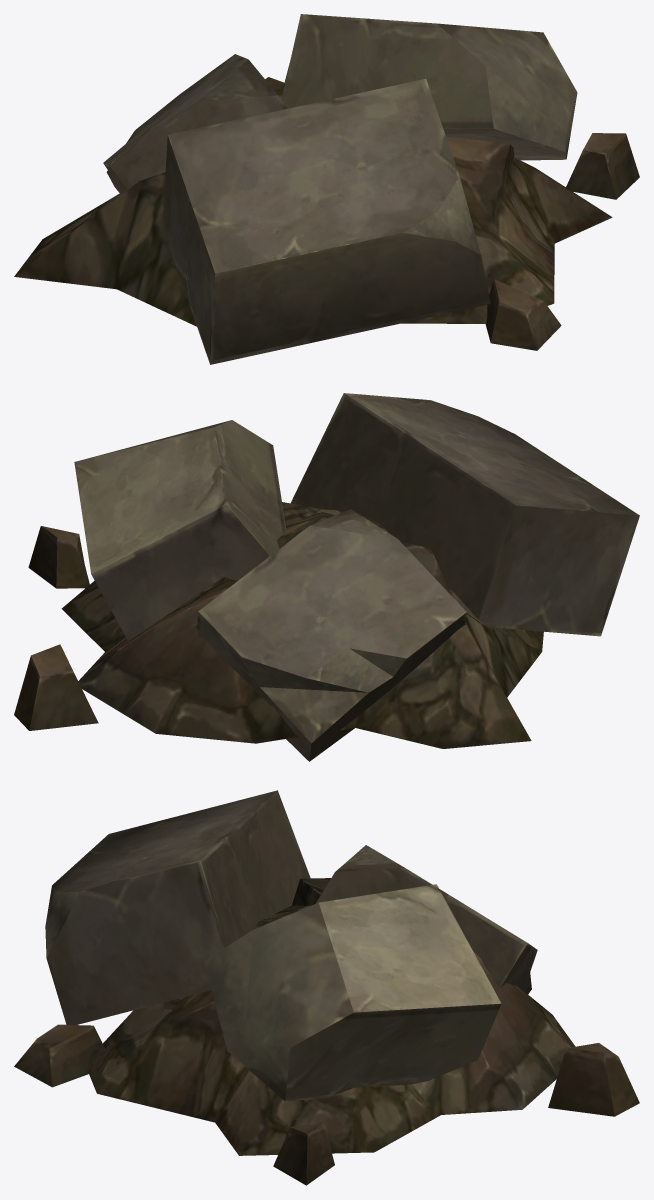
File: BD_BrickWreckage02.FBX
3 views of the same model, one above another, from view 1: azimuth 30°, elevation 25°; view 2: azimuth 150°, elevation 25°; view 3: azimuth 270°, elevation 25° (orthographic). The views are drawn at different scales.
Parts seen in each view (by area): view 1: BD_BrickWreckage02; view 2: BD_BrickWreckage02; view 3: BD_BrickWreckage02.
Boxes of the visible parts, box(x1,y1,x2,y2) form: BD_BrickWreckage02: box(14, 14, 639, 364); BD_BrickWreckage02: box(14, 393, 639, 761); BD_BrickWreckage02: box(14, 790, 639, 1185).
Size of the model in its own units: 422 by 167 by 415.
